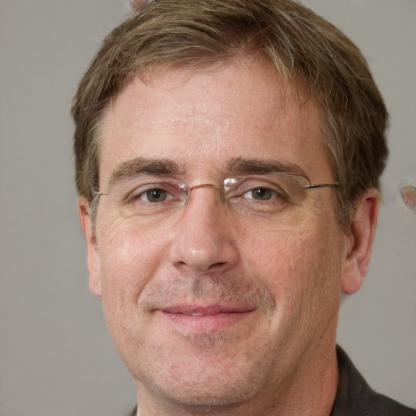glasses: (96, 171, 342, 232)
